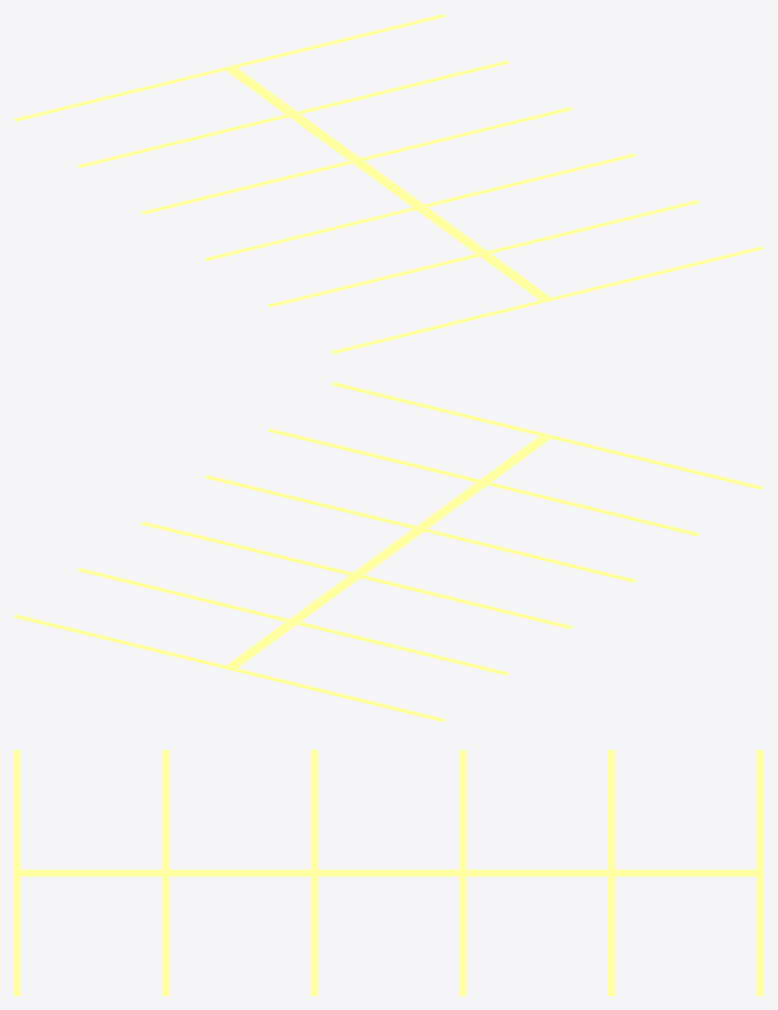
File: parking_lot_1.dae
The picture shows the model from 3 angles, top to bottom: view 1: azimuth 30°, elevation 25°; view 2: azimuth 150°, elevation 25°; view 3: azimuth 270°, elevation 25°; orthographic projection. The views are drawn at different scales.
Visible parts, largest first — view 1: node0; view 2: node0; view 3: node0.
Boxes of the visible parts, x1,y1,x2,y2 form: node0: [14, 14, 763, 353]; node0: [14, 382, 763, 721]; node0: [14, 750, 763, 995].
Size of the model in its own units: 12300 by 15900 by 15.
